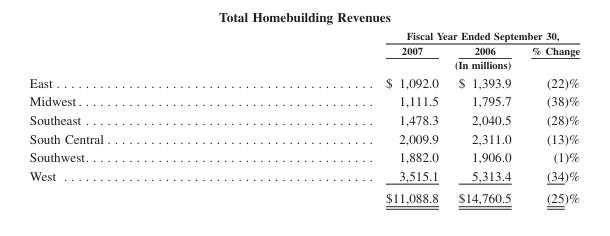table: (28, 29, 579, 204)
table column: (28, 29, 243, 204), (243, 29, 447, 204), (447, 29, 520, 204), (520, 29, 579, 204)
table column header: (28, 29, 579, 72)
table row: (28, 165, 579, 186), (28, 72, 579, 91), (28, 91, 579, 110), (28, 128, 579, 147), (28, 110, 579, 128), (28, 147, 579, 165), (28, 186, 579, 204), (28, 42, 579, 57), (28, 57, 579, 72), (28, 29, 579, 42)
table spanning cell: (243, 57, 579, 72), (243, 29, 579, 42)
